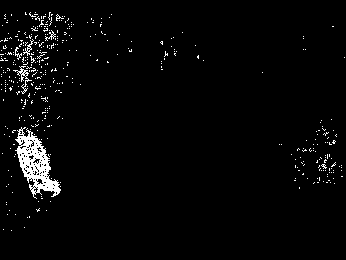person: (15, 126, 64, 213)
